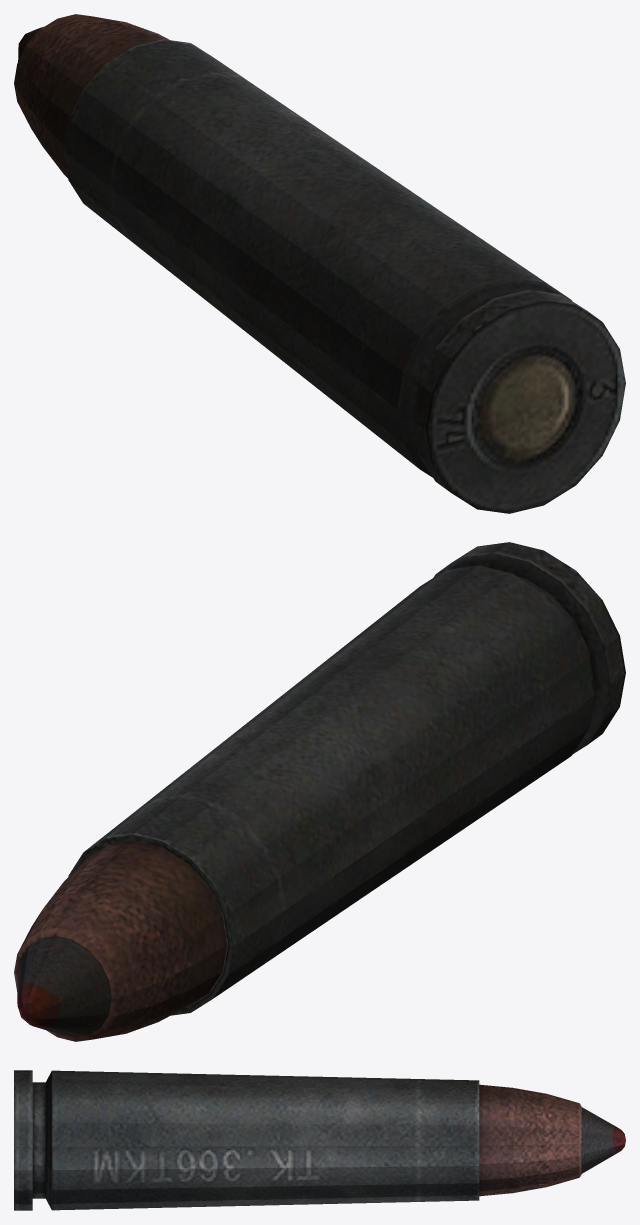
3 views of the same model, one above another, from view 1: azimuth 30°, elevation 25°; view 2: azimuth 150°, elevation 25°; view 3: azimuth 270°, elevation 25° (orthographic). The views are drawn at different scales.
Visible parts, largest first — view 1: TW_5f0596629e22f464da6bbdd9_PZ_Import; view 2: TW_5f0596629e22f464da6bbdd9_PZ_Import; view 3: TW_5f0596629e22f464da6bbdd9_PZ_Import.
Boxes of the visible parts, box(x1,y1,x2,y2) form: TW_5f0596629e22f464da6bbdd9_PZ_Import: box(14, 14, 625, 513); TW_5f0596629e22f464da6bbdd9_PZ_Import: box(14, 542, 625, 1041); TW_5f0596629e22f464da6bbdd9_PZ_Import: box(14, 1070, 625, 1210).
Bounding box in the file's own units: 0.00655 × 0.0285 × 0.00645.
Materials: 1 (1 with a texture image).
